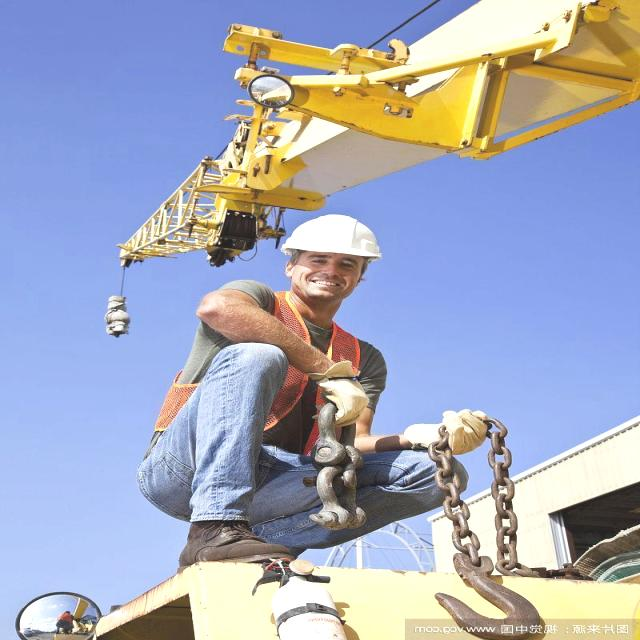face_nomask: (291, 244, 364, 298)
hand_glove: (400, 408, 505, 458), (302, 363, 378, 431)
head_helmet: (278, 214, 388, 256)
person: (142, 216, 468, 584)
shoes: (172, 517, 306, 567)
